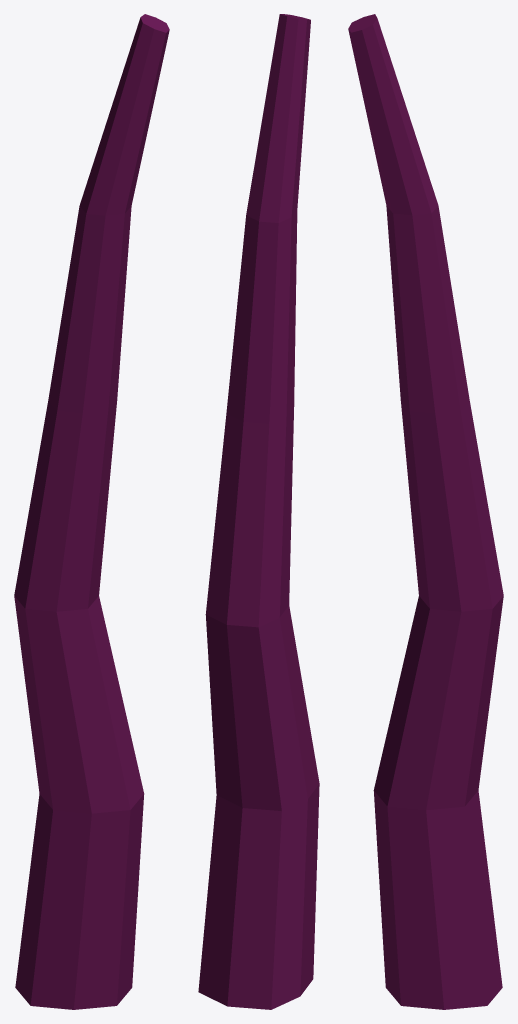
Rendered from tentacle.glb.
3 renders of one model, left to right at view 1: azimuth 90°, elevation 25°; view 2: azimuth 150°, elevation 25°; view 3: azimuth 270°, elevation 25°, orthographic. The views are drawn at different scales.
Parts seen in each view (by area): view 1: Cube; view 2: Cube; view 3: Cube.
Part boxes in pixels (x1,y1,x2,y2): Cube: [14, 14, 169, 1009]; Cube: [198, 14, 319, 1009]; Cube: [348, 14, 503, 1009].
Size of the model in its own units: 0.9749 by 9.9 by 1.44.
